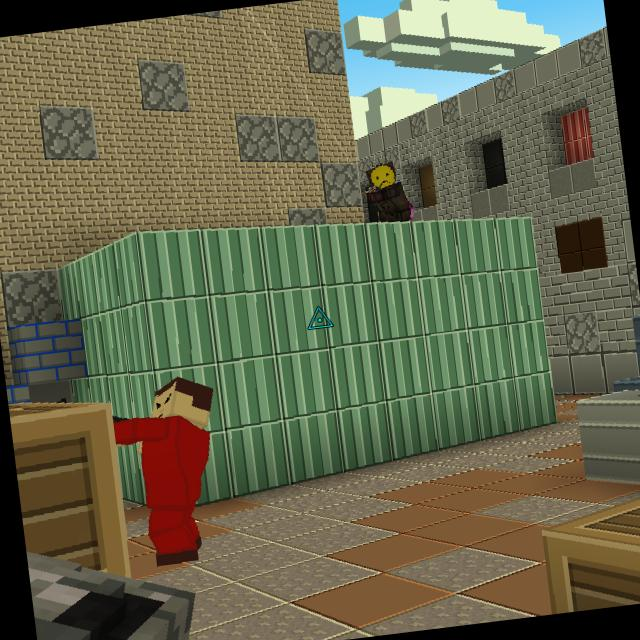enemy: (105, 368, 235, 572), (361, 156, 414, 226)
